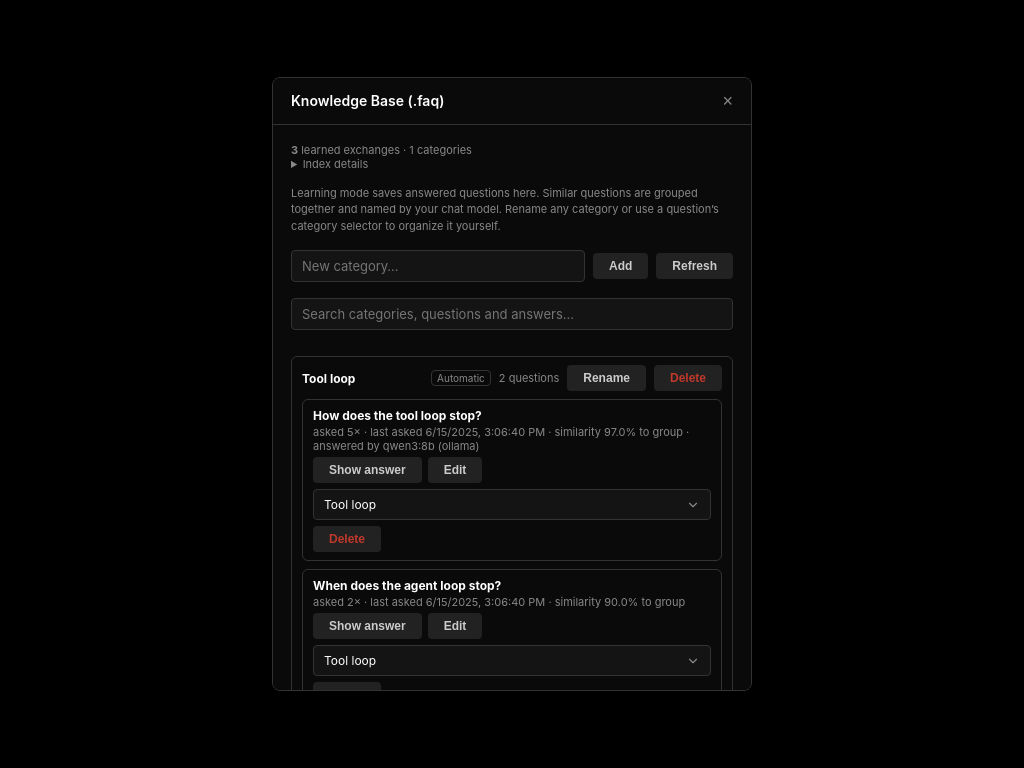
Test: FaqPanel › searches across category names, questions and answers
The width and height of the screenshot is (1024, 768).
Expected: the text "Tool loop" next to "Automatic" is shown, x1=302 y1=371 x2=355 y2=386
# Match on a QUESTION term.
Type "max_iterations" into the search field named "Search knowledge base". click: (512, 314)
box: x1=291 y1=298 x2=733 y2=330
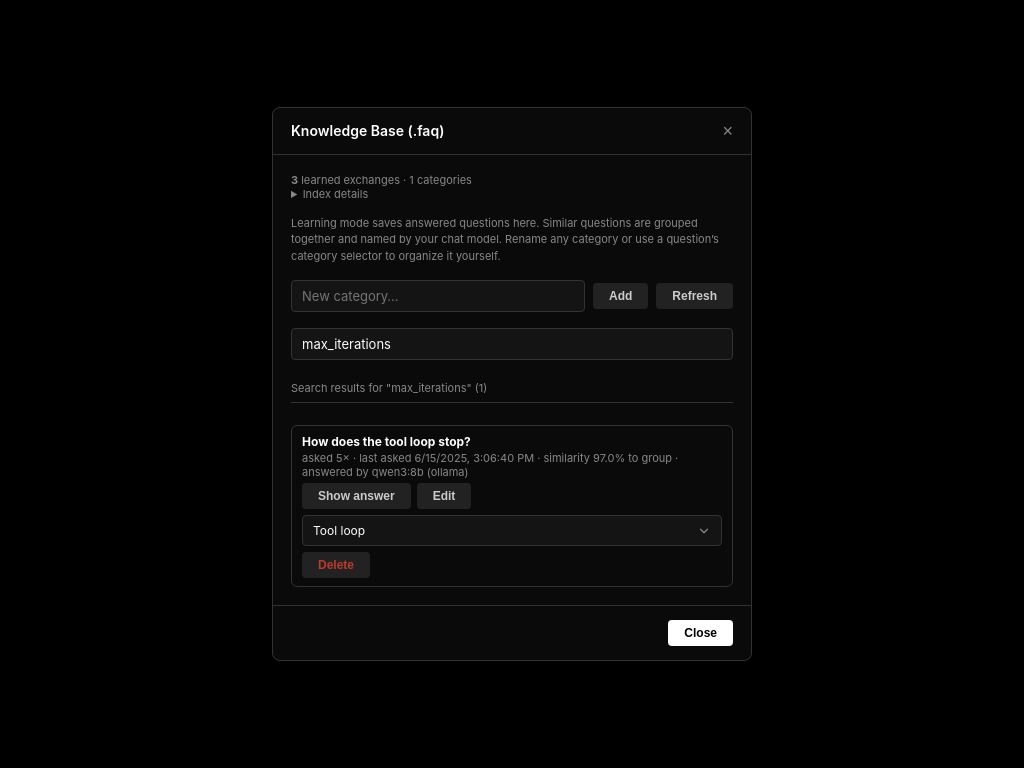
Expected: the text "How does the tool loop stop?" is shown, x1=302 y1=434 x2=471 y2=449
Expected: the text "Why cap output tokens?" is not shown
# Match on a CATEGORY name.
Replace the text in the search field named "Search knowledge base" with "tool loop". click: (512, 344)
box: x1=291 y1=328 x2=733 y2=360
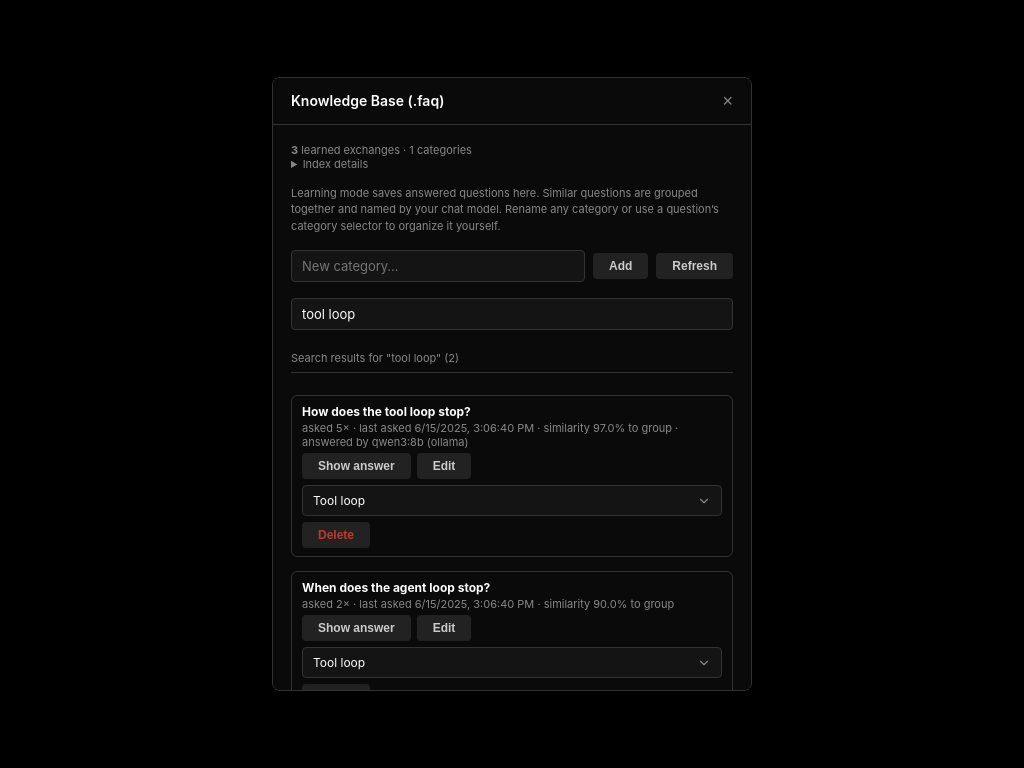
Expected: the text "How does the tool loop stop?" is shown, x1=302 y1=404 x2=471 y2=419
Expected: the text "Why cap output tokens?" is not shown
# Match on an ANSWER term.
Replace the text in the search field named "Search knowledge base" with "context". click: (512, 314)
box: x1=291 y1=298 x2=733 y2=330
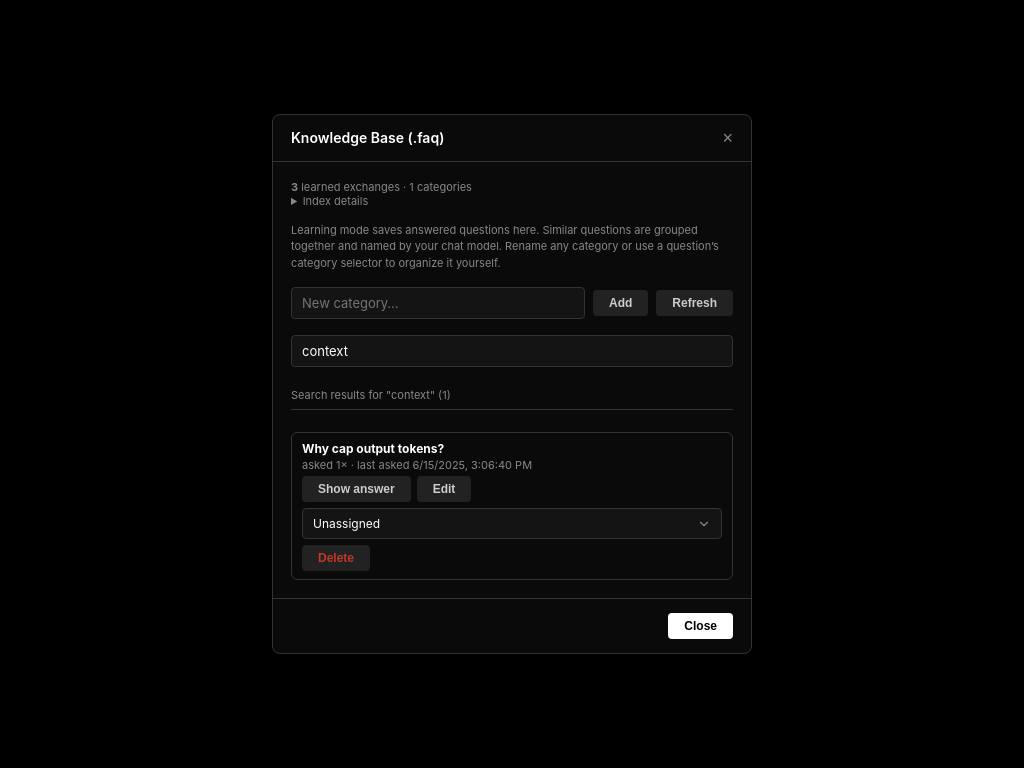
Result: the text "Why cap output tokens?" is shown at x1=302 y1=441 x2=444 y2=456
